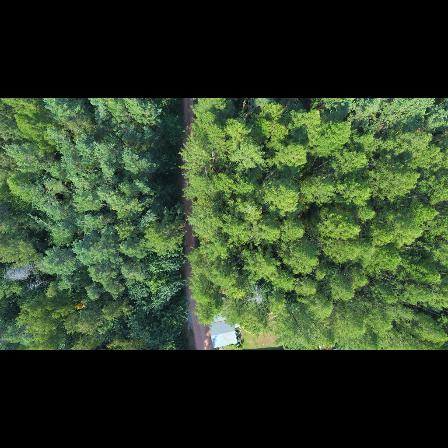Dead: (3, 260, 37, 284), (28, 276, 50, 295), (248, 284, 266, 307)
